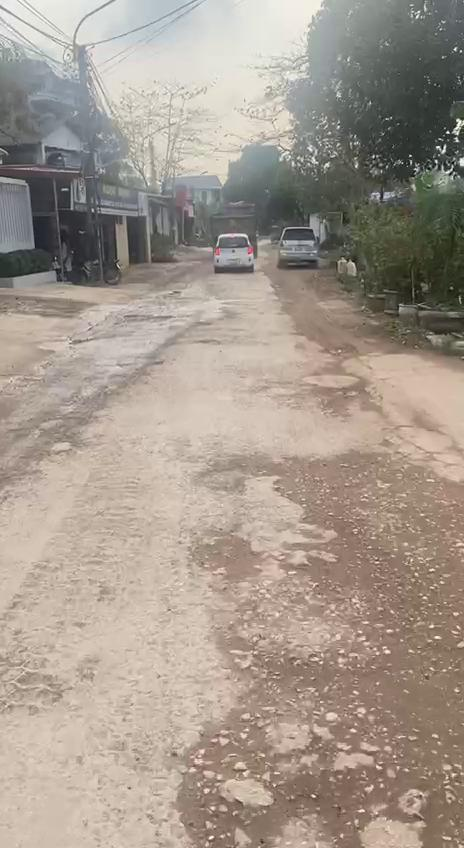pothole: (168, 744, 430, 848), (272, 511, 366, 590), (190, 523, 254, 584)
